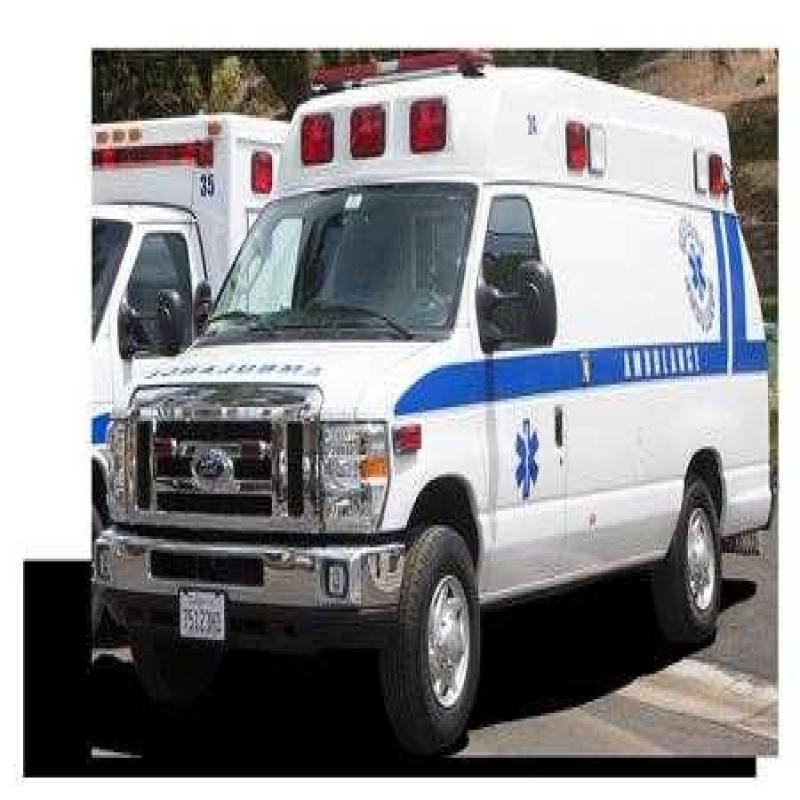AmbulanceSiren: (284, 49, 532, 179)
